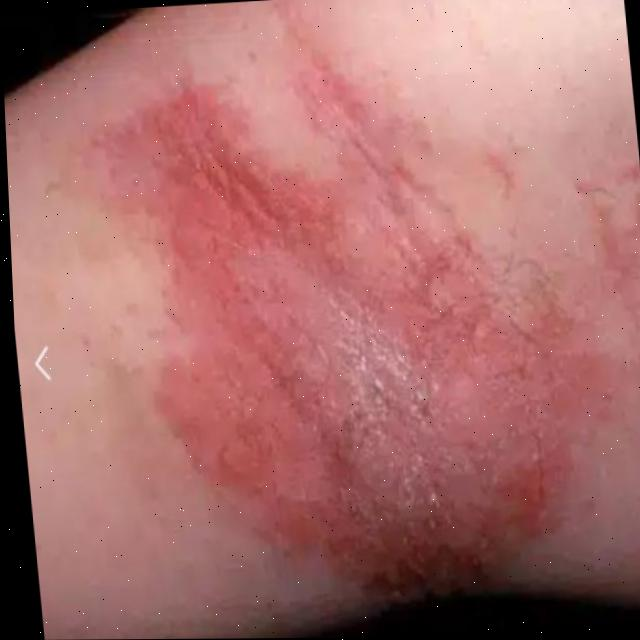Eczema: (89, 93, 576, 532)
